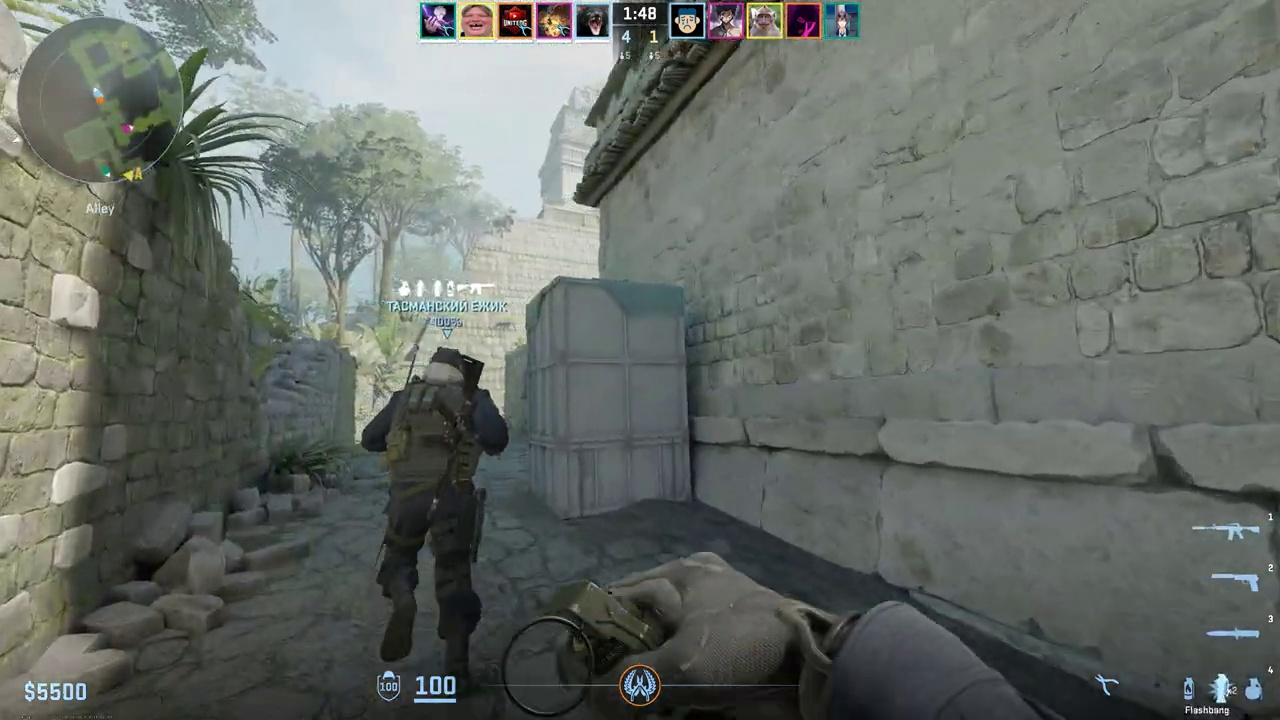CT: (371, 348, 487, 679)
